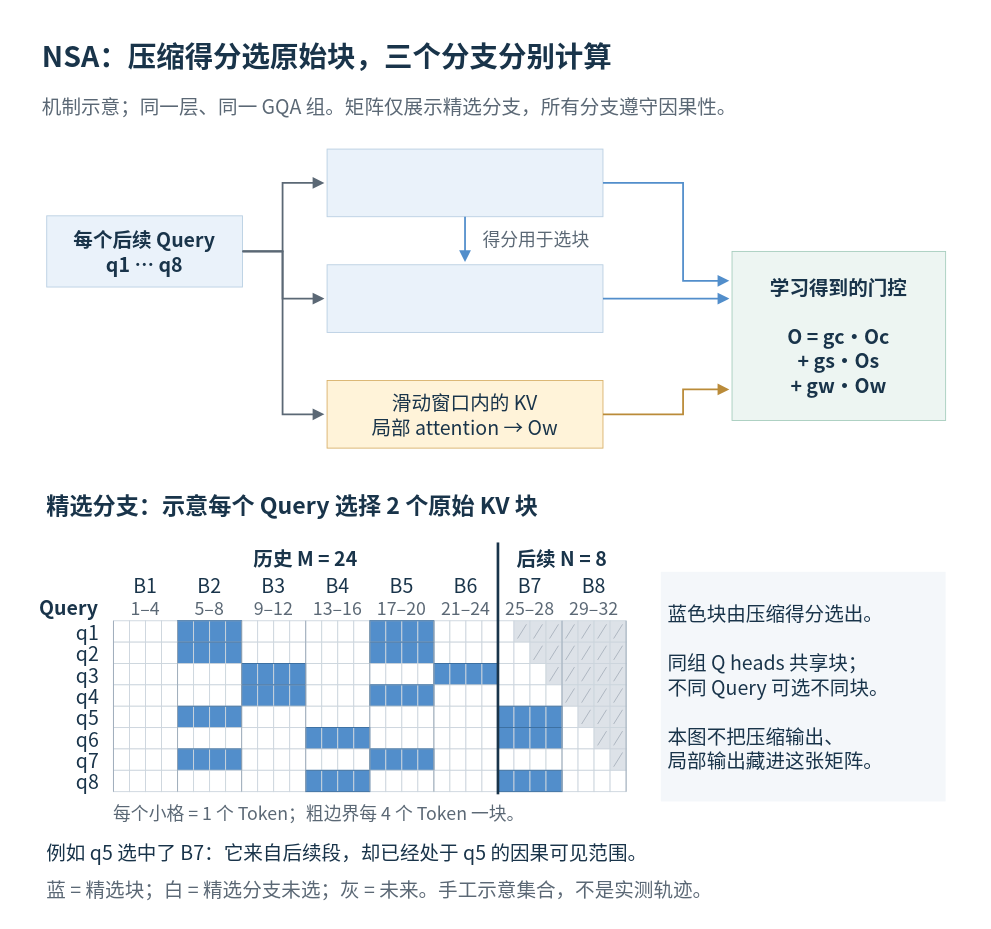
Some shapes in this 991 by 929 pixel diagram are drawn without their labels. Here are the shapes that lost their labels. From the top down, the box of each, then its label:
(326, 148, 603, 217): 压缩 K / V attention 输出 Oc + 压缩得分
(326, 264, 603, 332): Top-k 原始 KV 块 精选 attention → Os
